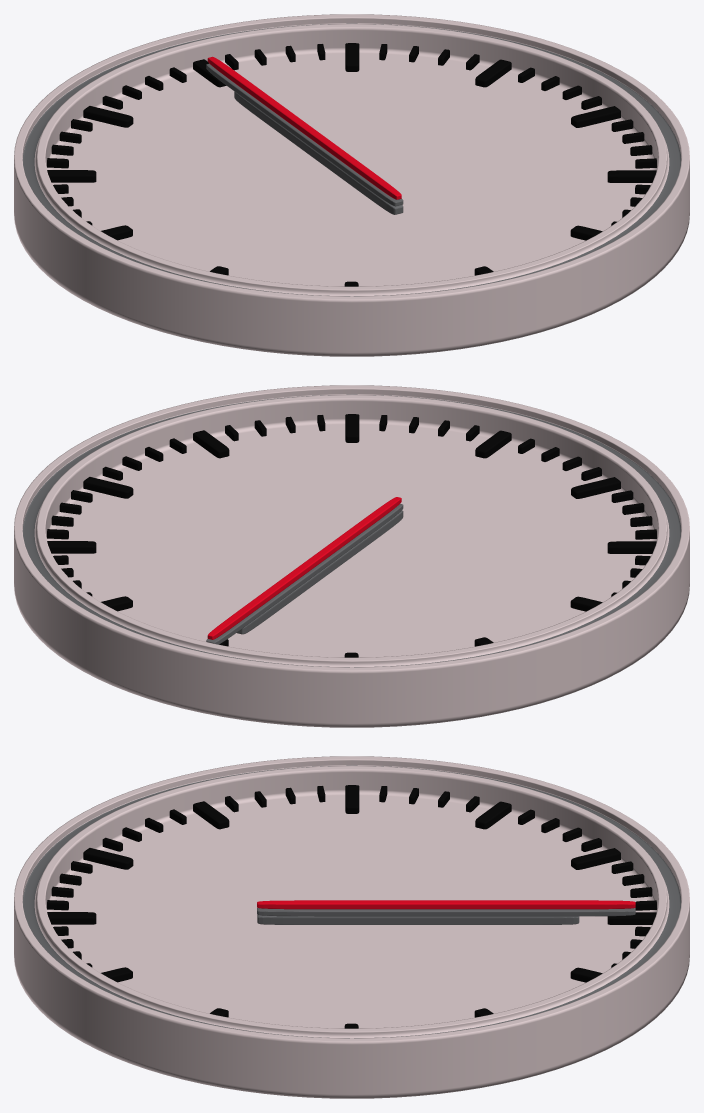
The model's file is Clock.fbx.
3 views of the same model, one above another, from view 1: azimuth 30°, elevation 25°; view 2: azimuth 150°, elevation 25°; view 3: azimuth 270°, elevation 25° (orthographic).
Parts seen in each view (by area): view 1: Clock, An Indicator Minute, An Indicator Hour, Seconds Hand, Minute Hand, Hour Hand; view 2: Clock, An Indicator Minute, An Indicator Hour, Seconds Hand, Minute Hand, Hour Hand; view 3: Clock, An Indicator Minute, An Indicator Hour, Seconds Hand, Minute Hand, Hour Hand.
Boxes of the visible parts, bbox=[...] form: Clock: bbox=[14, 14, 689, 356]; An Indicator Minute: bbox=[47, 44, 656, 225]; An Indicator Hour: bbox=[47, 43, 656, 286]; Seconds Hand: bbox=[207, 56, 401, 199]; Minute Hand: bbox=[206, 63, 403, 206]; Hour Hand: bbox=[234, 91, 403, 214]; Clock: bbox=[14, 385, 689, 727]; An Indicator Minute: bbox=[47, 415, 656, 596]; An Indicator Hour: bbox=[47, 414, 656, 657]; Seconds Hand: bbox=[207, 497, 401, 639]; Minute Hand: bbox=[206, 503, 403, 644]; Hour Hand: bbox=[237, 510, 403, 634]; Clock: bbox=[14, 756, 689, 1098]; An Indicator Minute: bbox=[47, 786, 656, 967]; An Indicator Hour: bbox=[47, 785, 656, 1028]; Seconds Hand: bbox=[257, 900, 635, 909]; Minute Hand: bbox=[257, 908, 635, 916]; Hour Hand: bbox=[257, 914, 579, 924].
Size of the model in its own units: 191 by 17.76 by 191.
